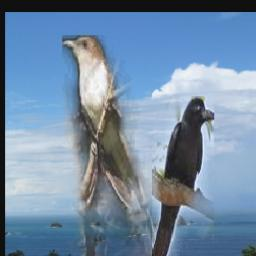Crow: (153, 97, 215, 256)
Cuckoo: (62, 35, 160, 256)
